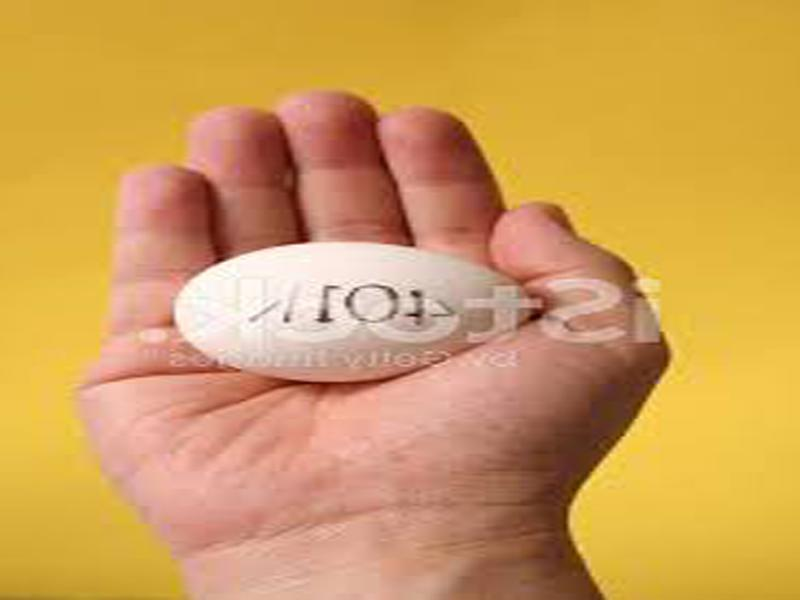Eggs: (174, 242, 532, 380)
